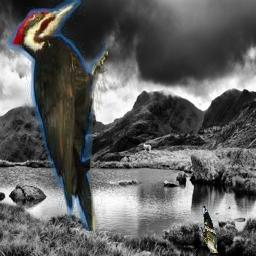Cuckoo: (200, 207, 218, 254)
Woodpecker: (6, 1, 109, 232)
